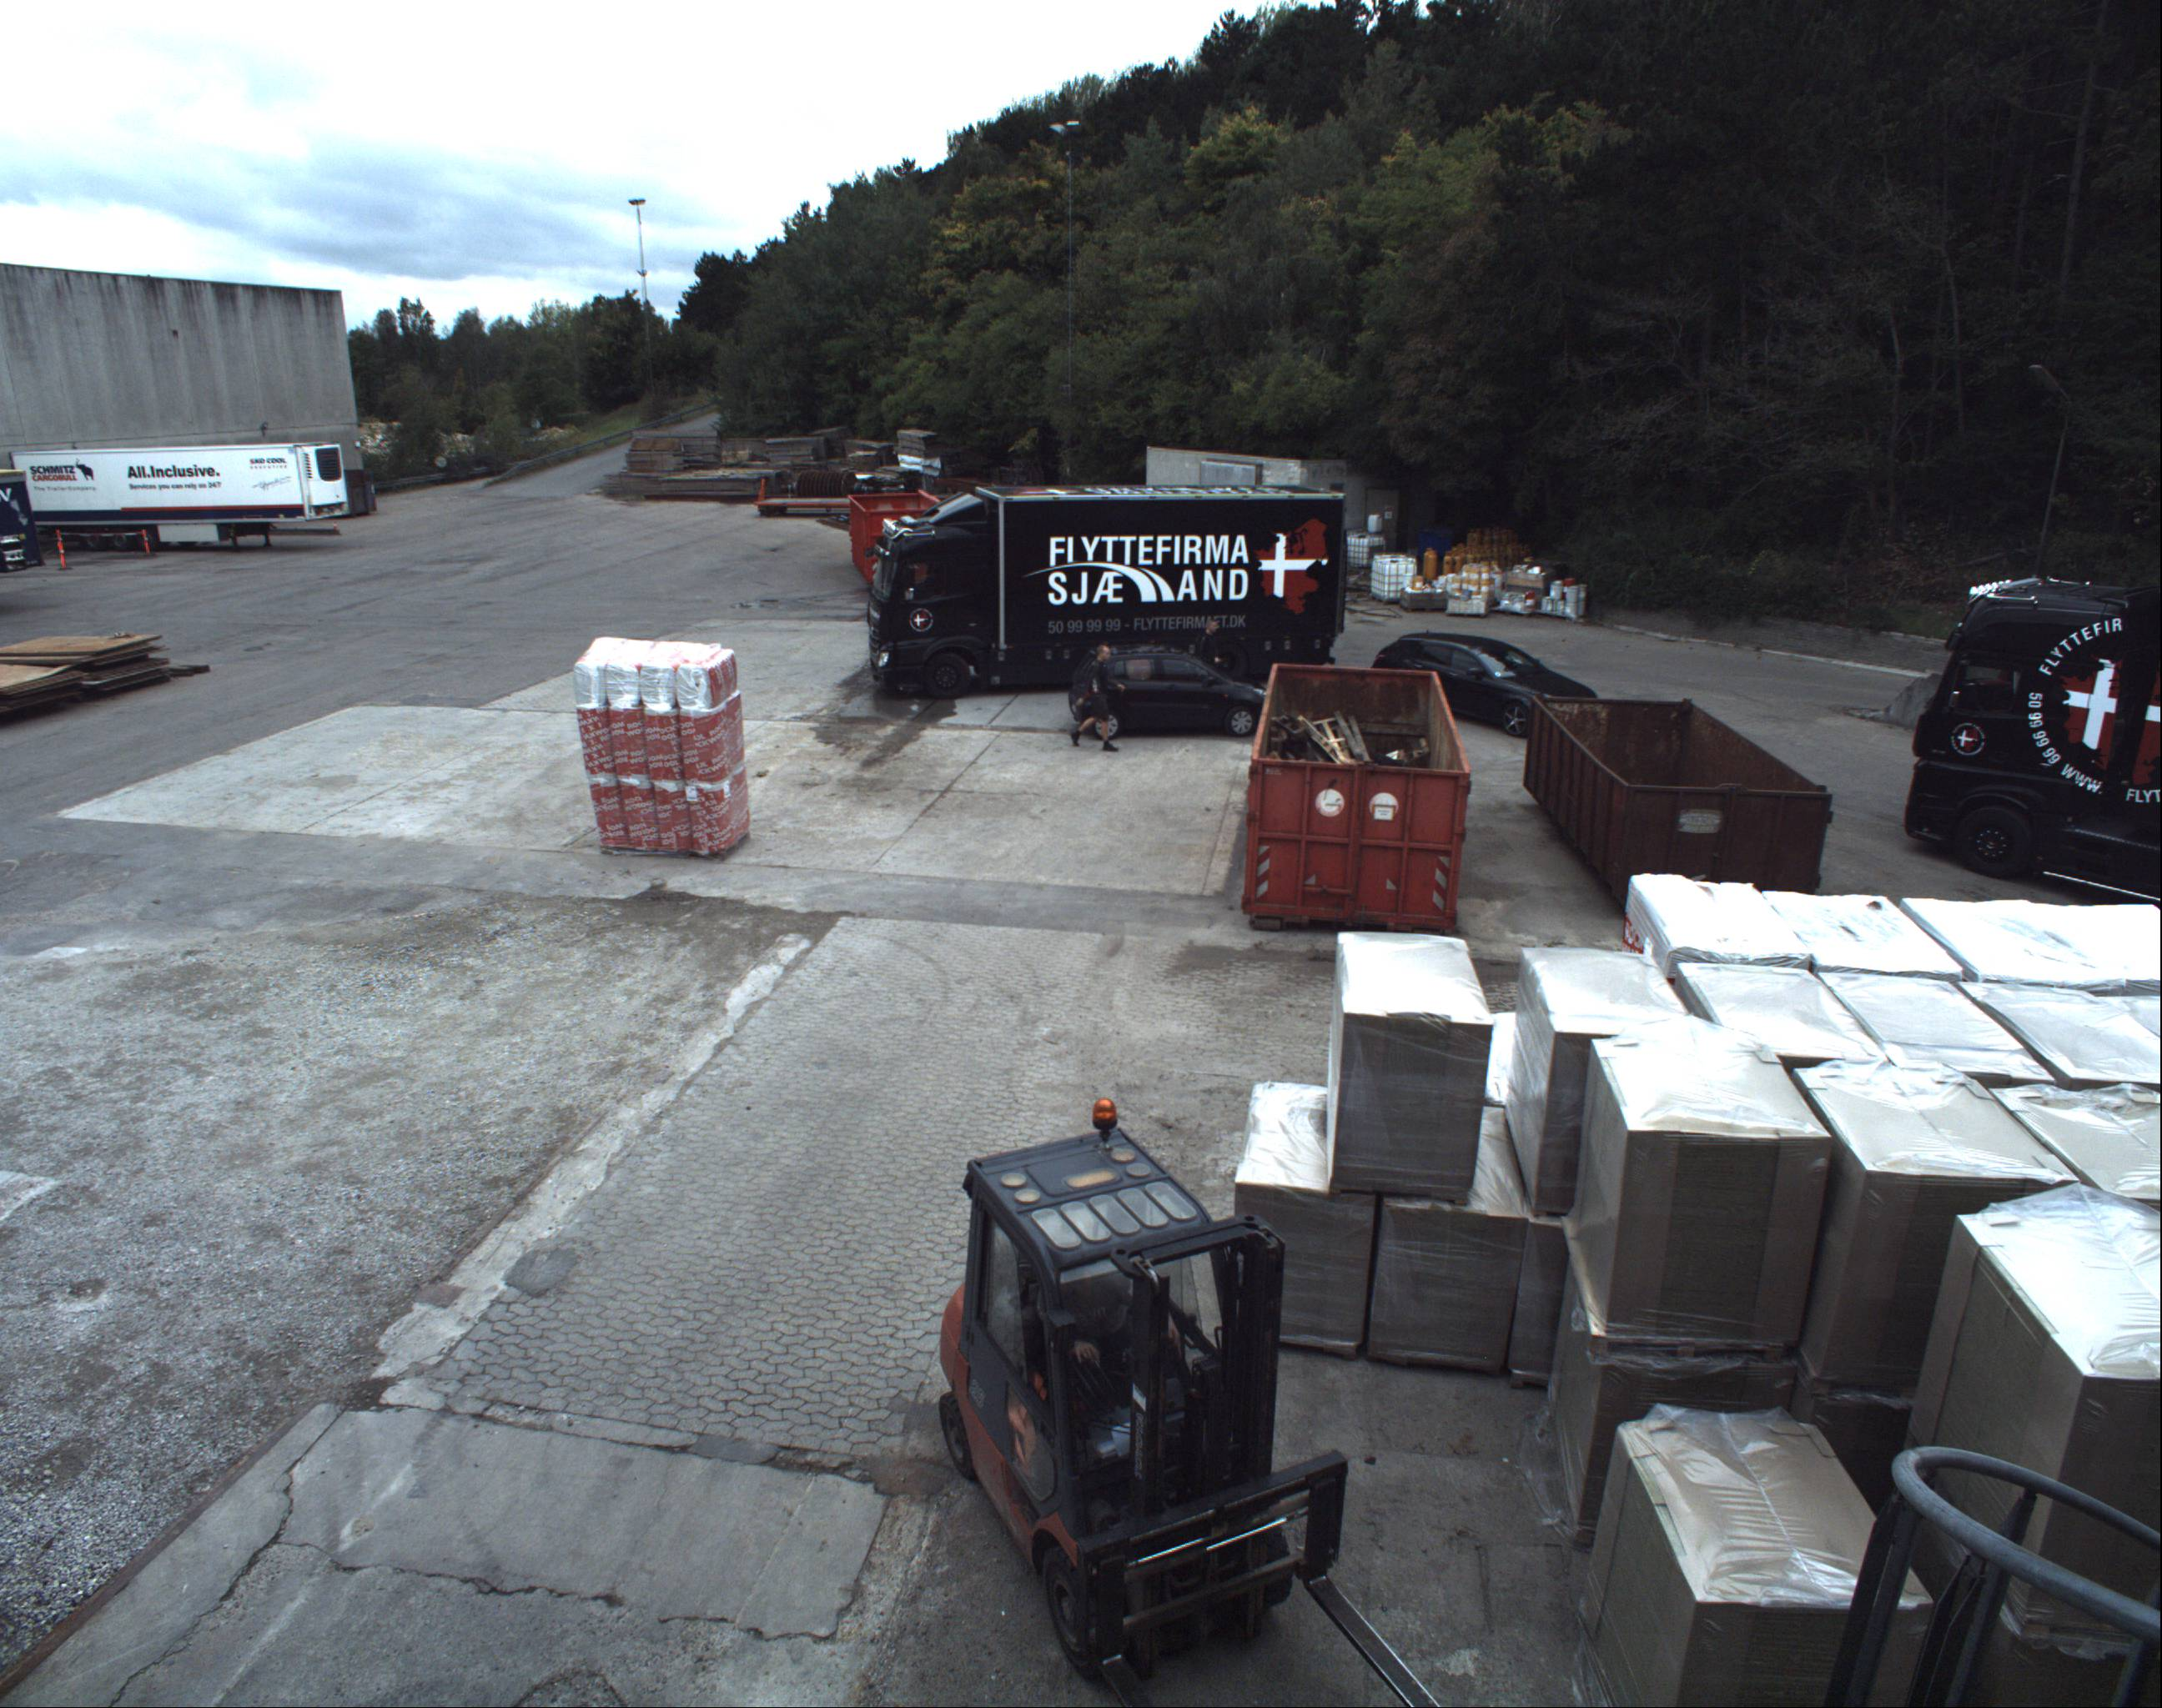rockwool_batts: (577, 625, 744, 855)
